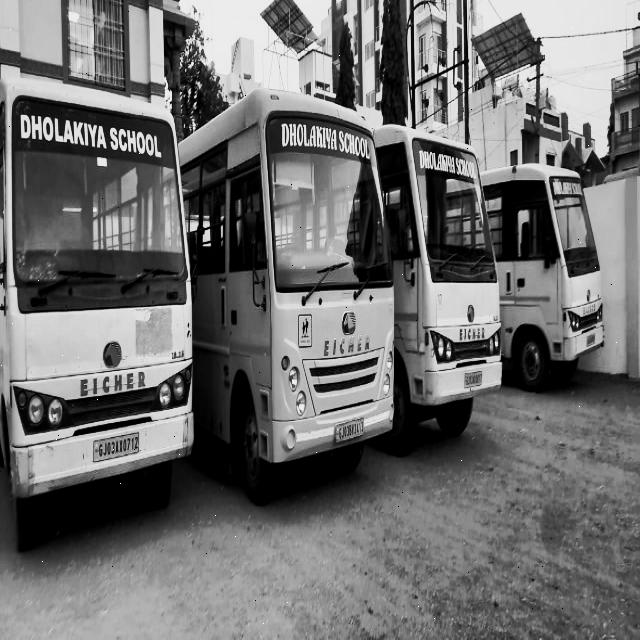Bus: (1, 74, 201, 547), (196, 76, 396, 499), (396, 118, 506, 445), (507, 145, 612, 409)
